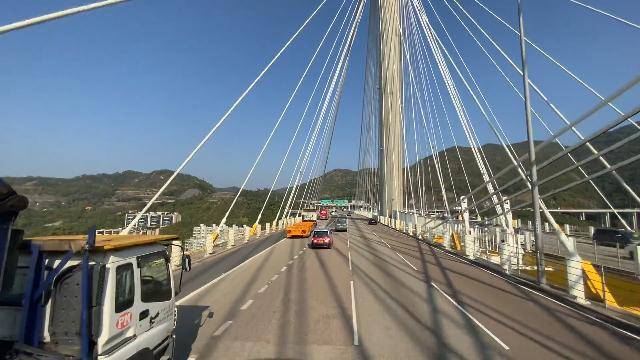bus: (319, 205, 329, 221)
car: (591, 227, 640, 250), (309, 226, 332, 252), (334, 216, 349, 232), (367, 218, 377, 224), (346, 212, 352, 217)
truck: (0, 227, 195, 359), (284, 204, 317, 241)
